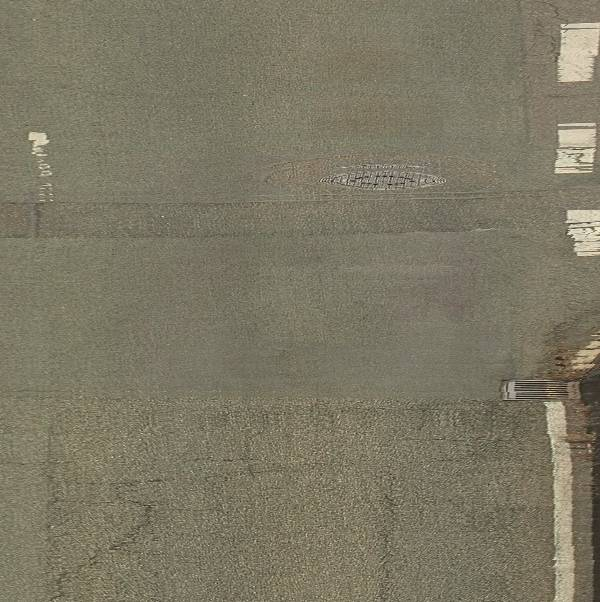road_damage: (20, 189, 535, 242), (9, 377, 490, 422), (51, 497, 162, 595), (286, 152, 491, 191), (363, 469, 408, 602)
